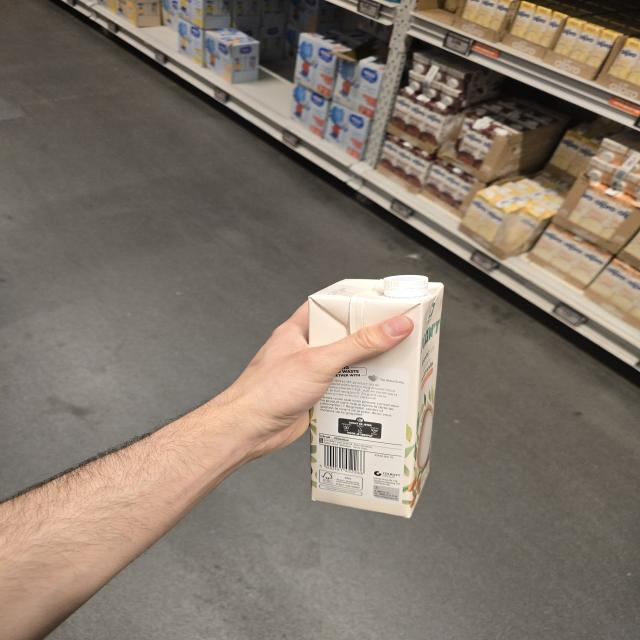Milk: (309, 275, 443, 518)
